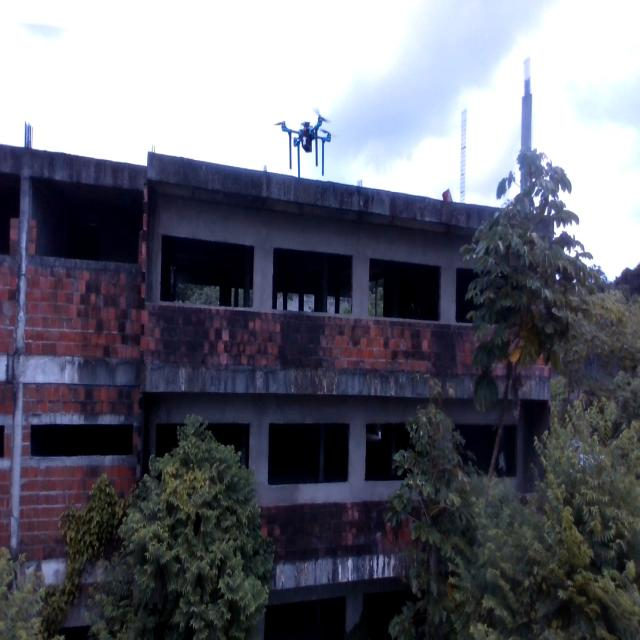-uav-: (266, 96, 342, 187)
